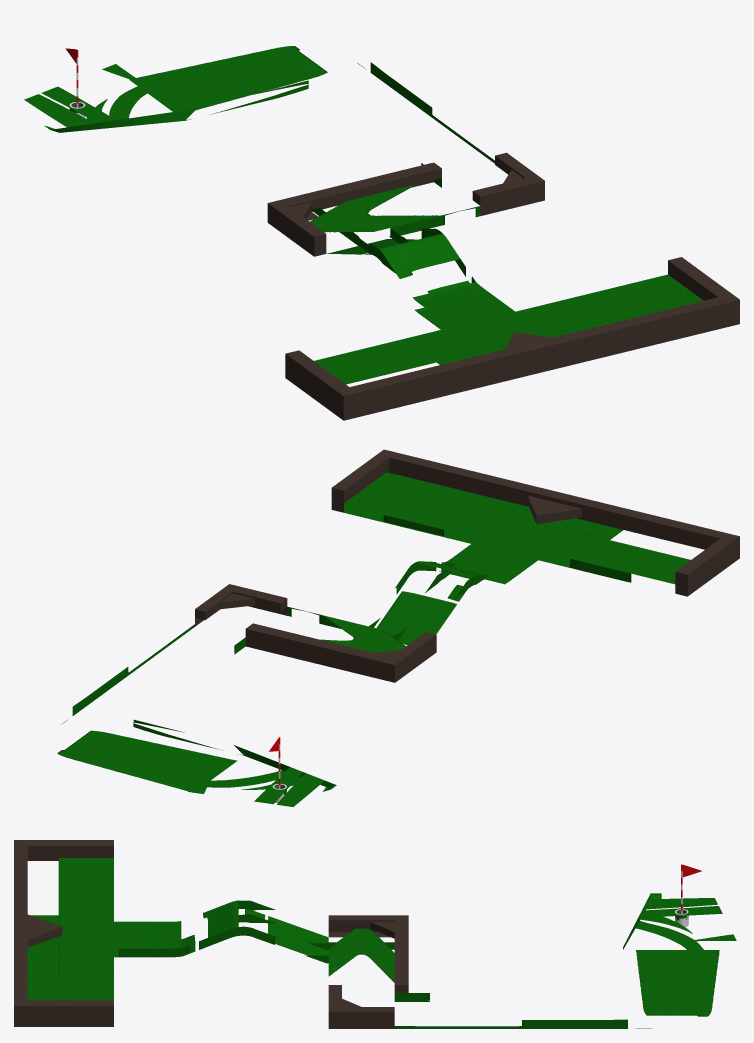
File: Course2.fbx
The picture shows the model from 3 angles, top to bottom: view 1: azimuth 30°, elevation 25°; view 2: azimuth 150°, elevation 25°; view 3: azimuth 270°, elevation 25°; orthographic projection. The views are drawn at different scales.
Parts seen in each view (by area): view 1: Course; view 2: Course, Corner; view 3: Course, Corner.
Boxes of the visible parts, left/top/right/bottom form: Course: left=24, top=46, right=739, bottom=420; Course: left=57, top=449, right=739, bottom=806; Corner: left=527, top=495, right=581, bottom=524; Course: left=14, top=840, right=736, bottom=1028; Corner: left=27, top=914, right=62, bottom=947.
Bounding box in the file's own units: 2237 × 381 × 4137.
6 materials, 1 textured.
